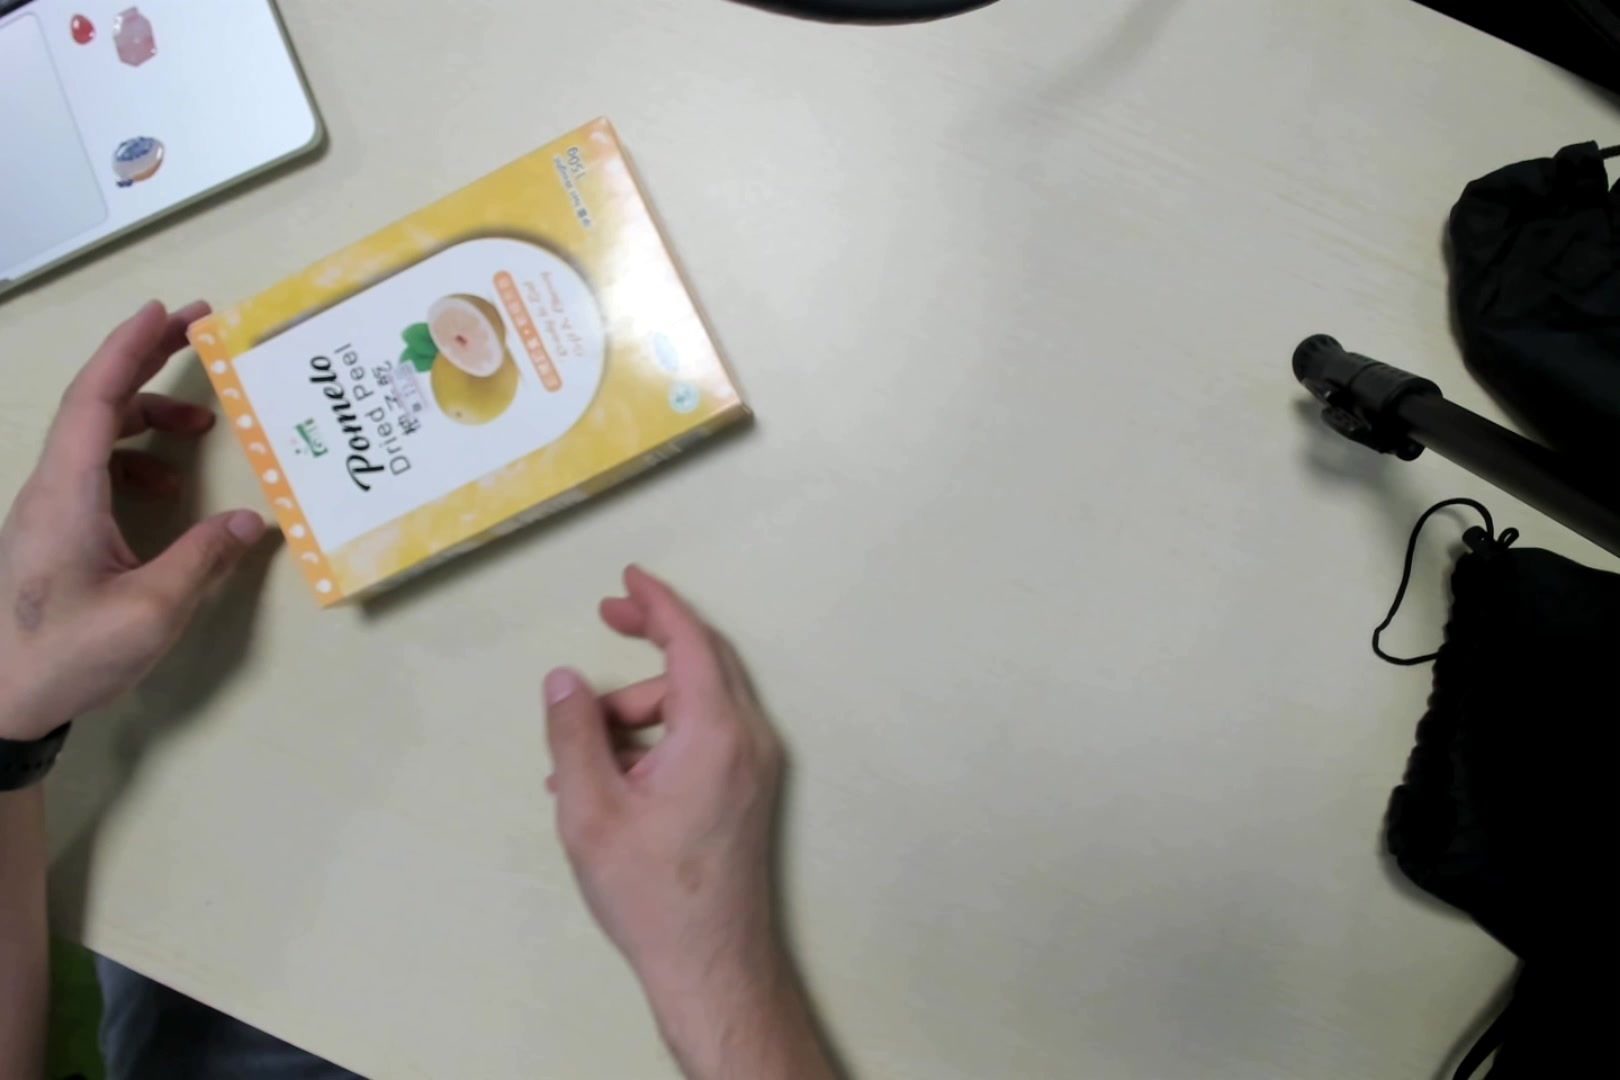DriedVegetables_100-199g_NonHalal_NonHealthy: (180, 121, 762, 606)
